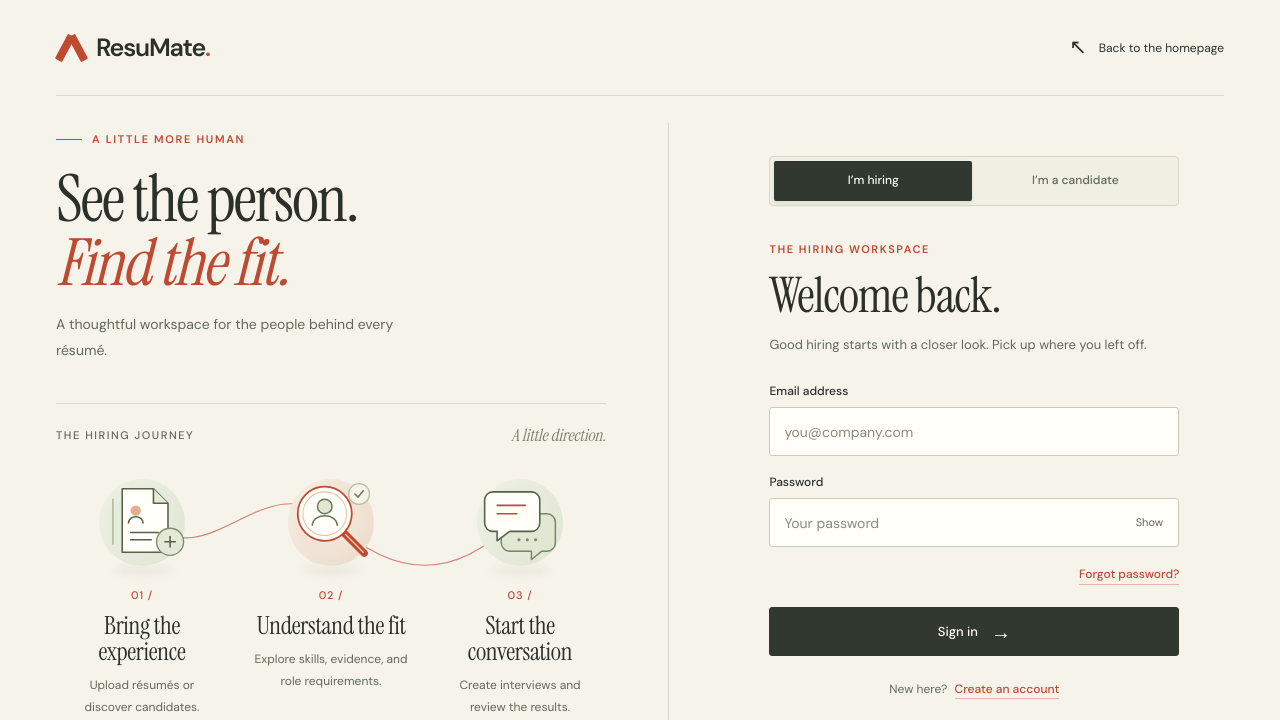
Test case: when it fails › passes on what the server says about the account
This screenshot has width=1280, height=720.
Type "jane@co.com" into the field labelled "Email address".
click(974, 432); type("jane@co.com")  # box [769, 407, 1179, 456]
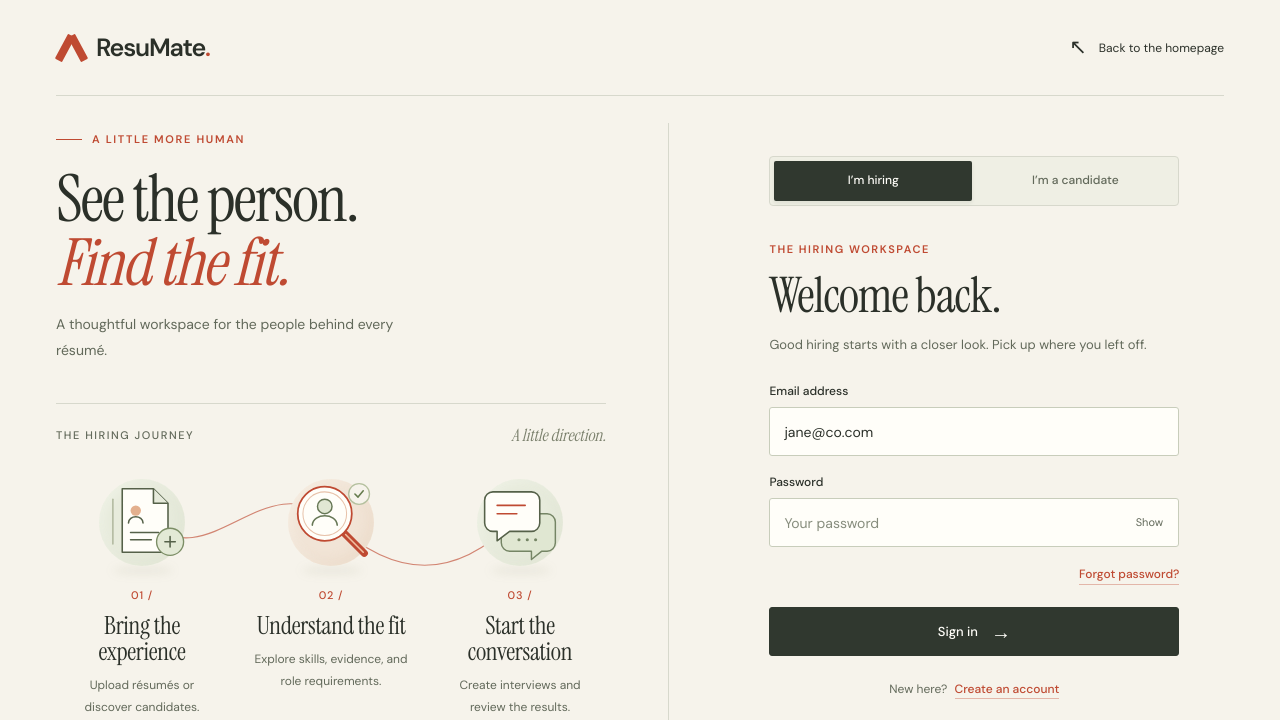
Type "hunter2hunter2" into the password field labelled "Password".
click(974, 522); type("hunter2hunter2")  # box [769, 498, 1179, 547]
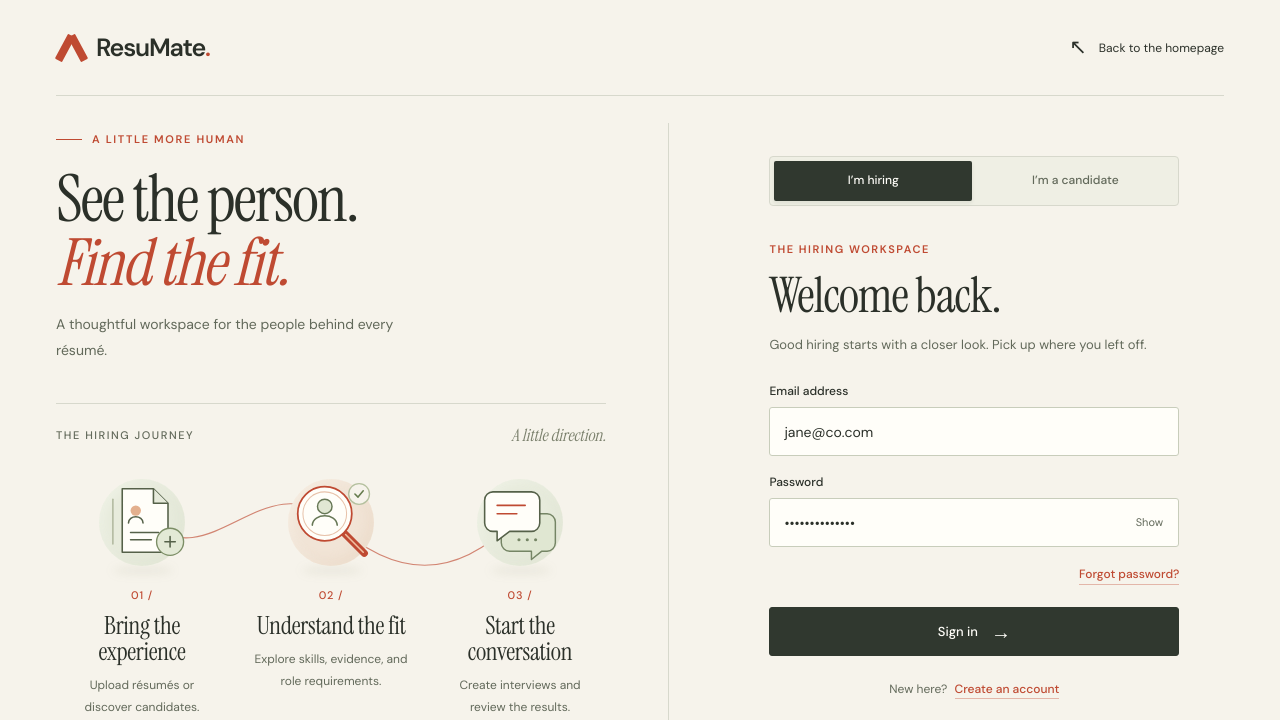
Click the button "Sign in →".
click(974, 632)  # box [769, 607, 1179, 656]
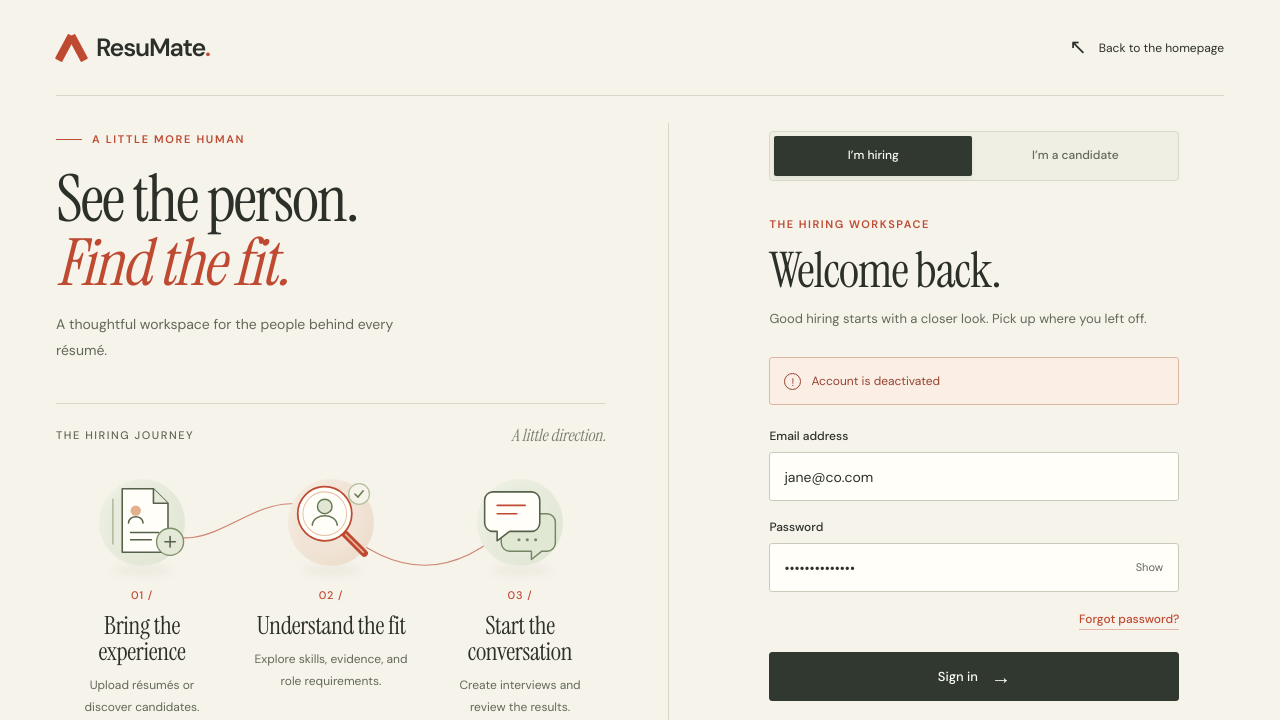
Result: the message shows "Account is deactivated" at [811, 373, 940, 389]
